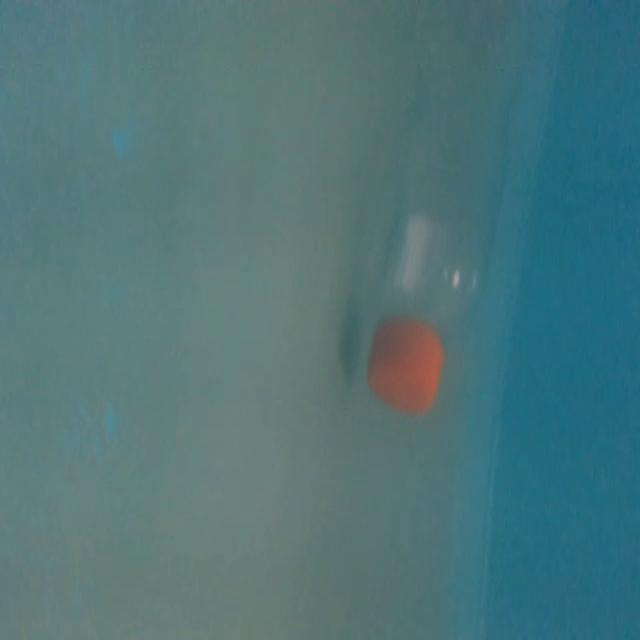plastic bottle: (338, 0, 551, 424)
